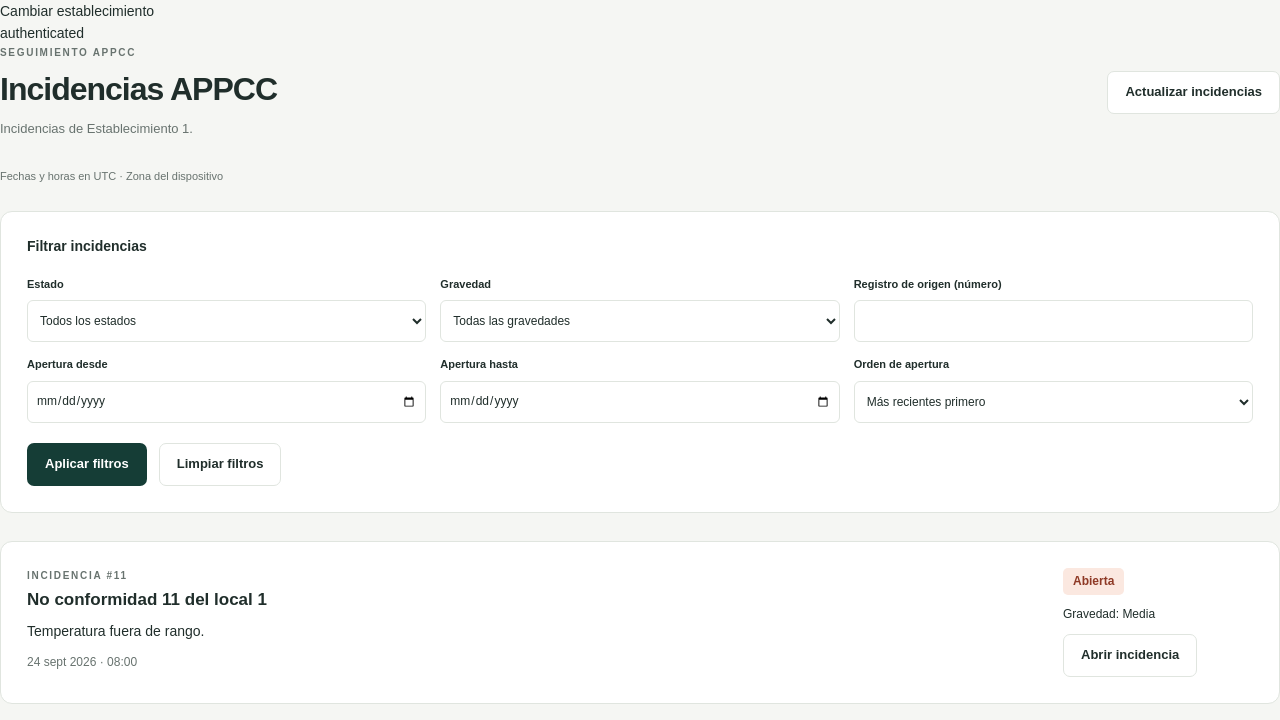
Test: auditor: consulta y permisos exactos en detalle
This screenshot has width=1280, height=720.
Click the button with aria-label "Abrir incidencia #11". click: x=1130, y=655
box: [1063,634,1197,677]
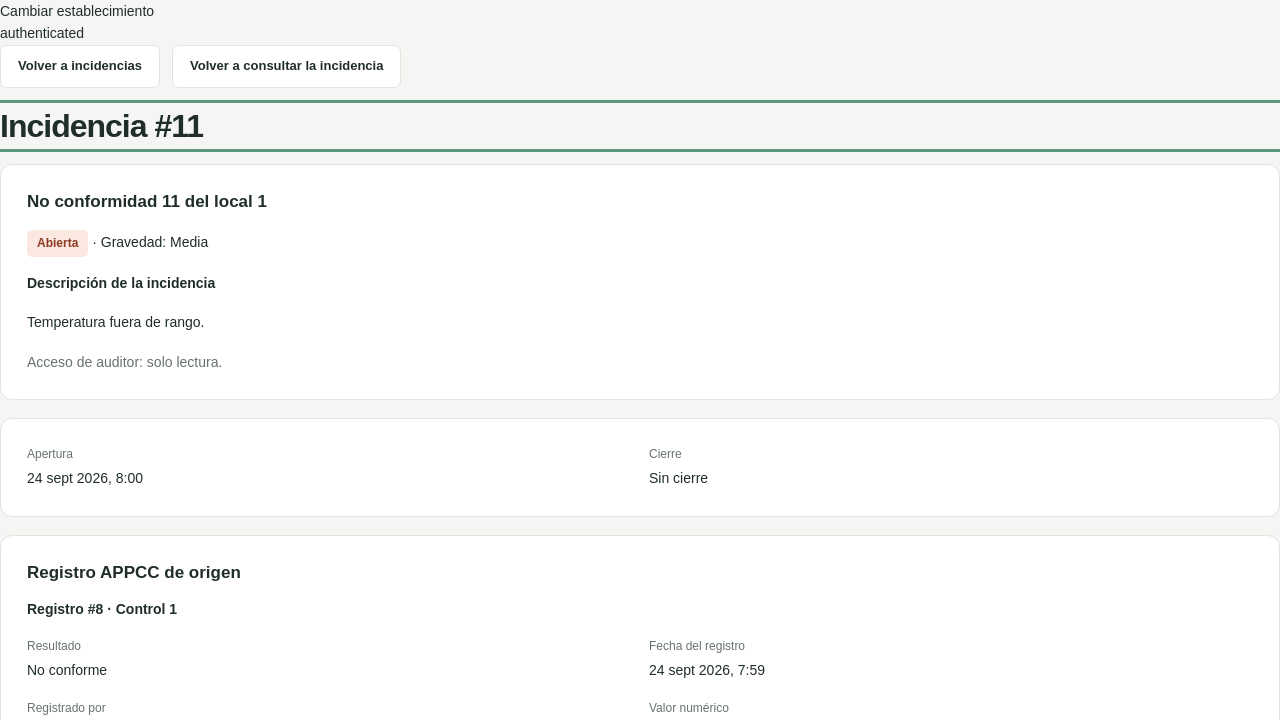
Check: the text "Acceso de auditor: solo lectura." is shown, box [27,354,222,370]
